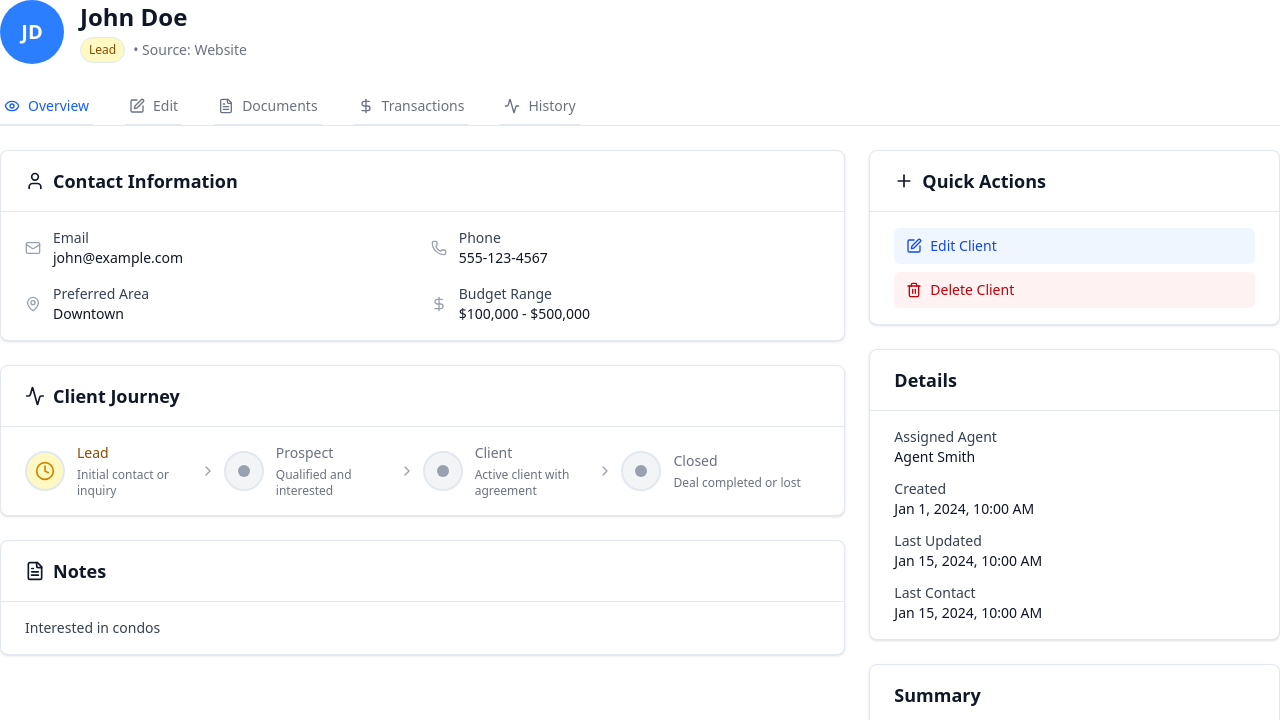
Test case: ClientProfile › Delete Confirmation Modal › cancels delete when cancel button is clicked
expect the heading "John Doe" is shown: met, box [80, 0, 187, 33]
# Open delete modal
Click the button "Delete Client" at (972, 290), box [894, 272, 1255, 308]
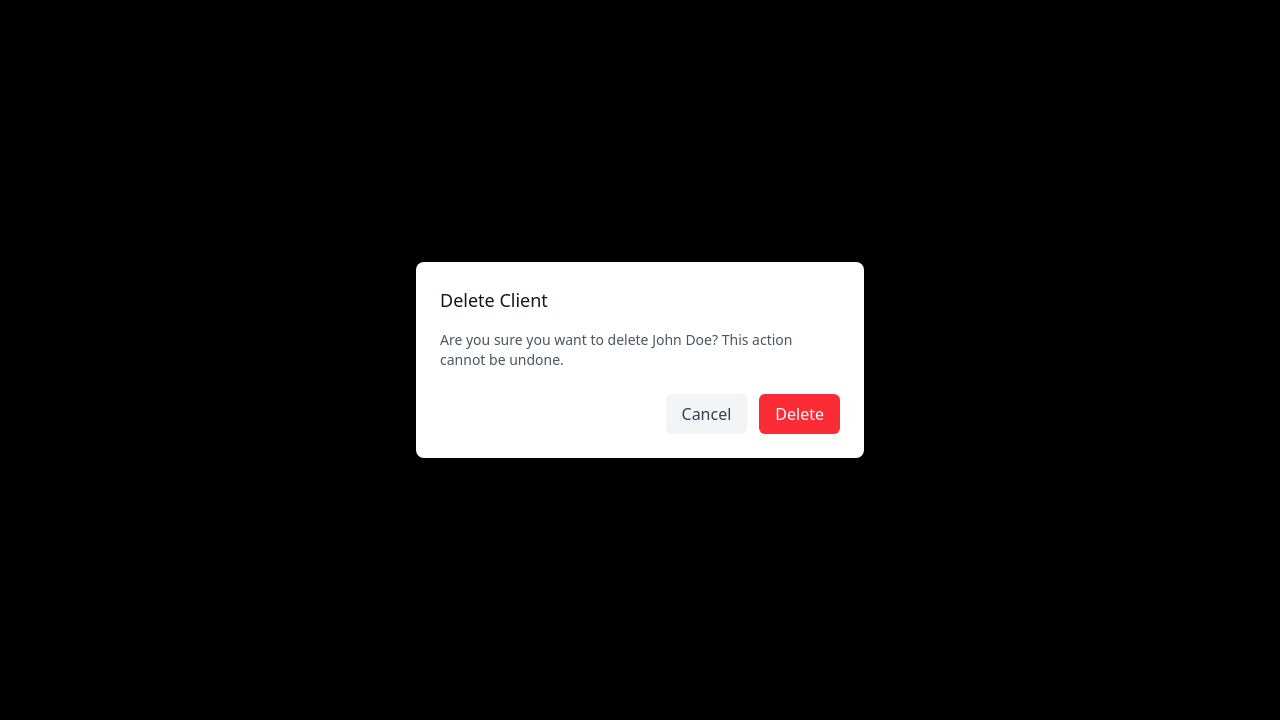
# Cancel delete
Click the button "Cancel" at (706, 414), box [666, 394, 747, 434]
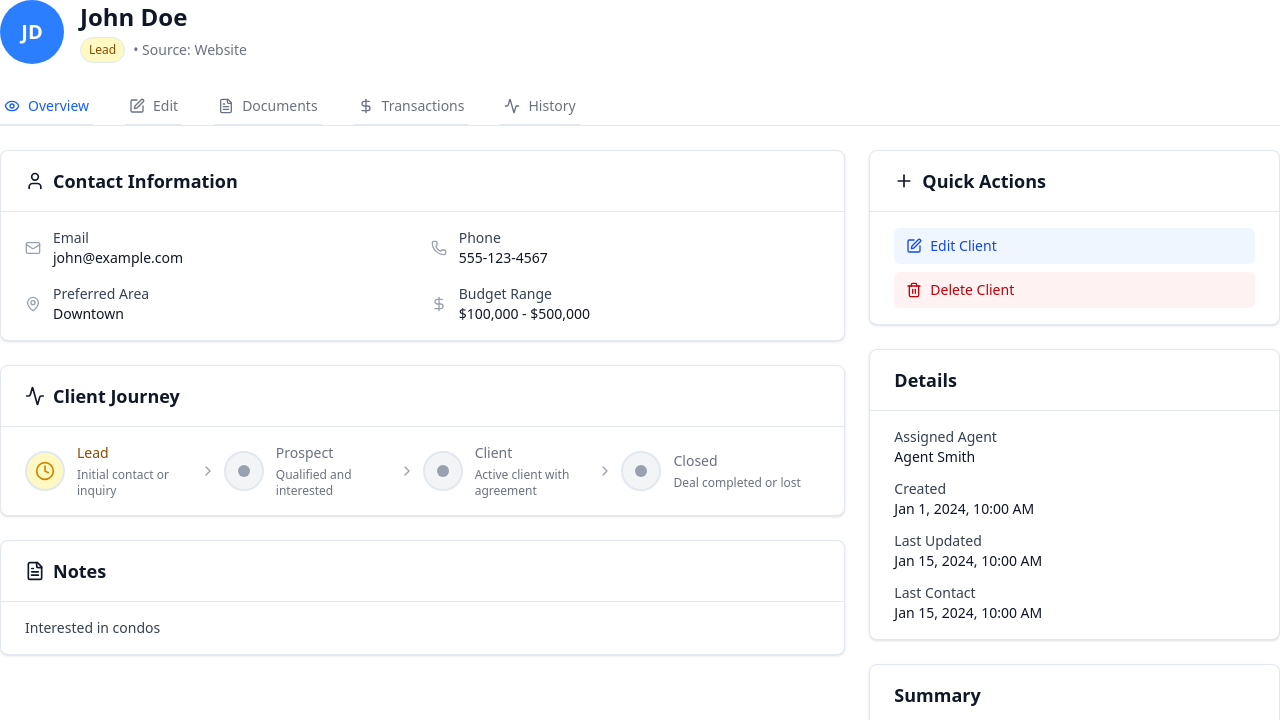
expect the text "Are you sure you want to delete" is gone: met
